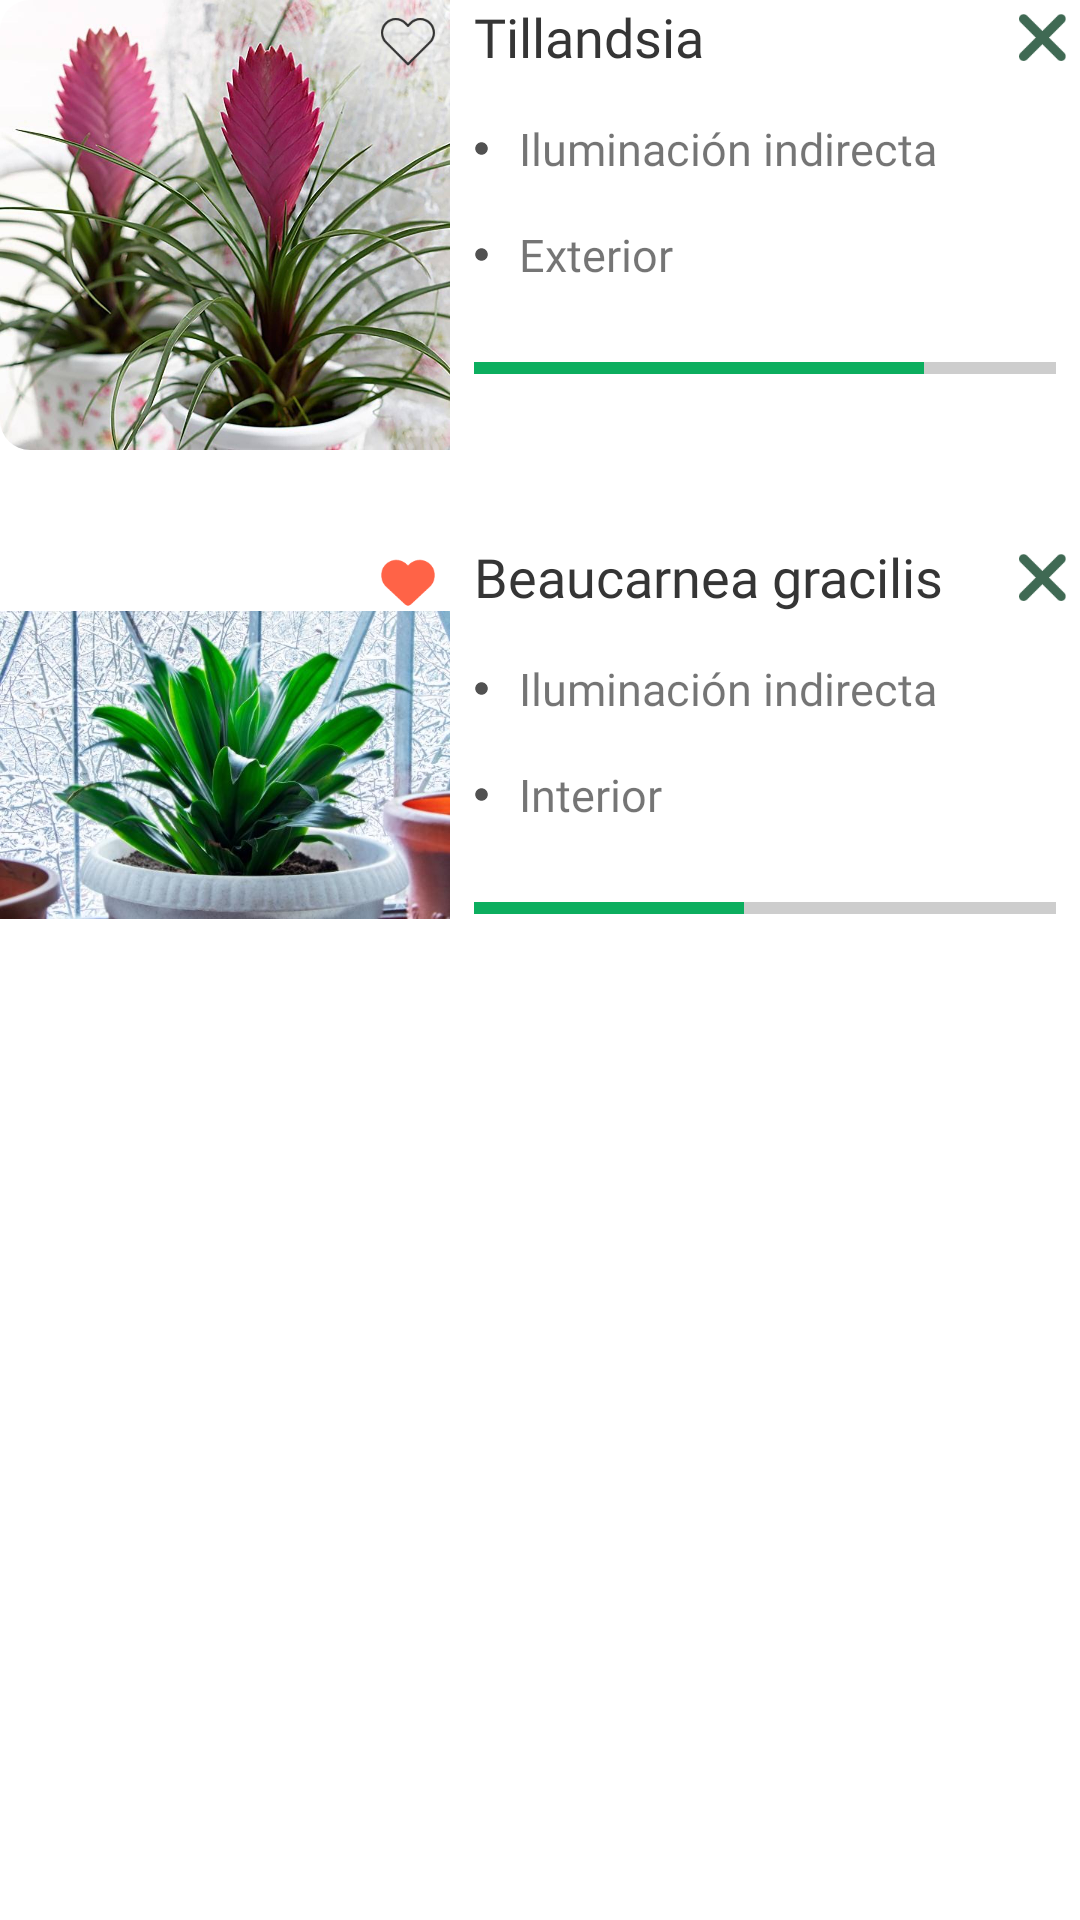

Icon bounding boxes for this 1080 × 1920 phone screenshot, format (x1,y1,x2,y2):
xmark: (1019,14,1066,61), (1019,554,1066,601)
